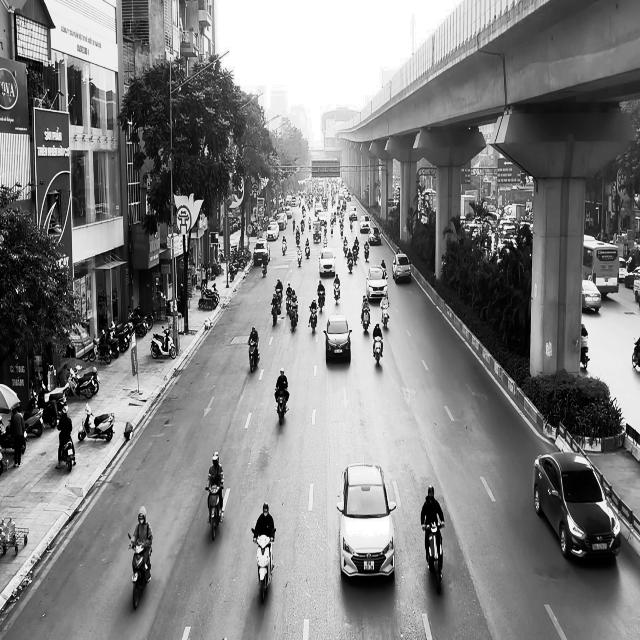car: (532, 451, 621, 561), (336, 461, 397, 581), (323, 314, 352, 362), (366, 265, 388, 302), (582, 279, 601, 313), (392, 251, 411, 282), (318, 248, 336, 276)
motorbike: (127, 532, 152, 610), (251, 526, 275, 602), (422, 521, 444, 594), (78, 402, 114, 442), (206, 484, 223, 541), (150, 326, 176, 358), (59, 433, 76, 472), (274, 387, 289, 425), (248, 339, 260, 373), (372, 336, 383, 366), (308, 306, 317, 334), (361, 306, 370, 334), (380, 304, 390, 328), (333, 283, 340, 305)
